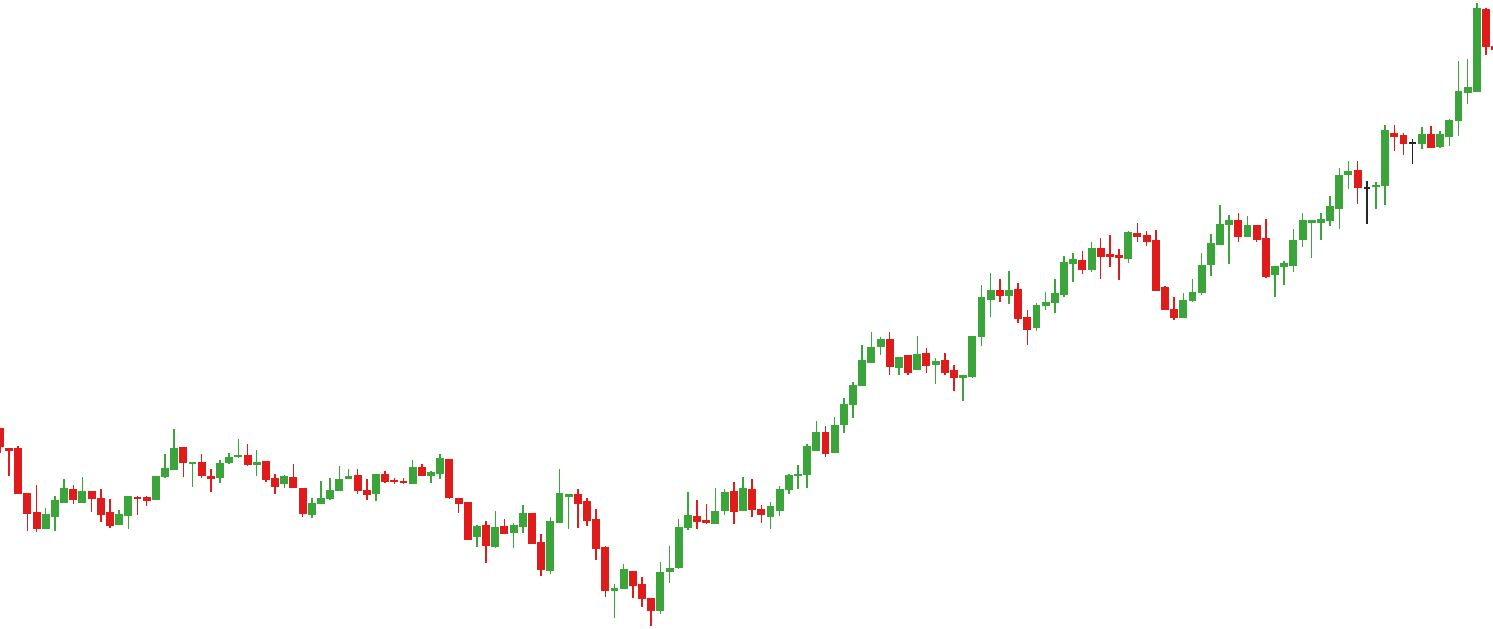buy: (481, 517, 557, 579)
